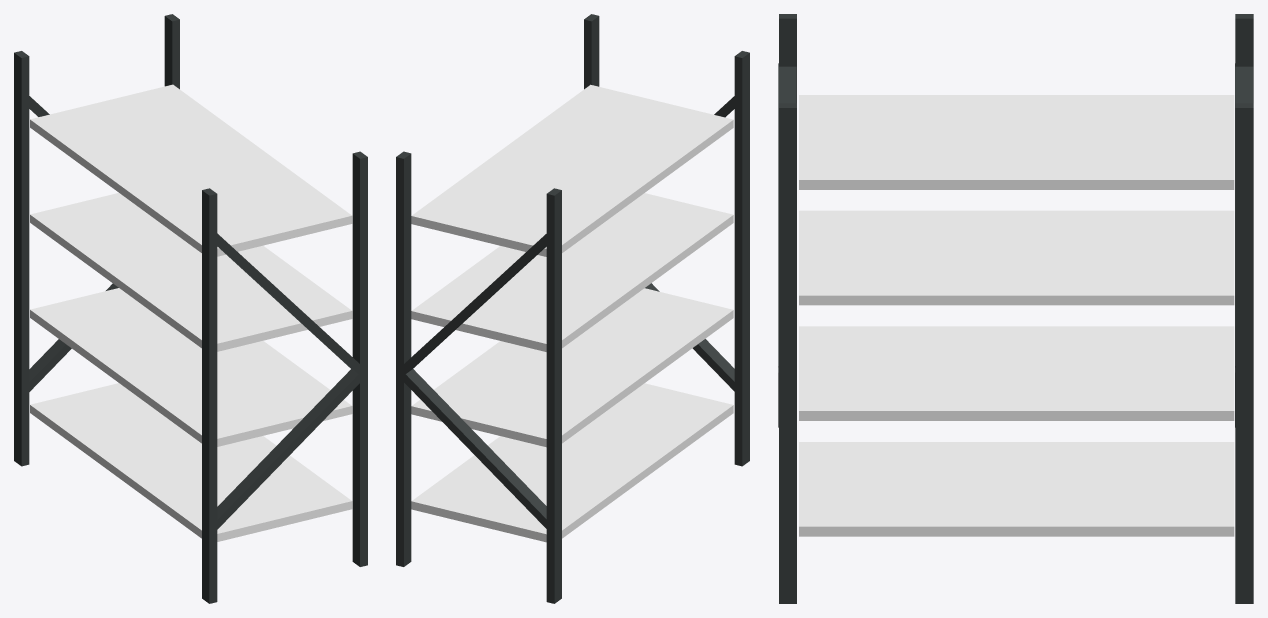
The model's file is Estante.fbx.
The picture shows the model from 3 angles, left to right: view 1: azimuth 30°, elevation 25°; view 2: azimuth 150°, elevation 25°; view 3: azimuth 270°, elevation 25°; orthographic projection. The views are drawn at different scales.
Visible parts, largest first — view 1: Box079, Box077, Box078, Box072, Box073, Box074, Box076, Box084, Box083, Box075, Box081; view 2: Box079, Box077, Box078, Box072, Box073, Box074, Box075, Box081, Box080, Box076, Box084; view 3: Box078, Box077, Box072, Box079, Box075, Box076, Box073, Box074, Box083, Box080.
Boxes of the visible parts, x1,y1,x2,y2 form: Box079: (30,84,352,256); Box077: (30,288,352,446); Box078: (30,193,352,351); Box072: (30,383,352,541); Box073: (14,51,29,466); Box074: (202,188,217,603); Box076: (352,151,367,566); Box084: (210,369,366,532); Box083: (210,232,366,376); Box075: (164,14,179,89); Box081: (22,283,118,394); Box079: (411,84,733,256); Box077: (411,288,733,447); Box078: (411,193,733,351); Box072: (411,383,733,542); Box073: (546,188,561,603); Box074: (734,51,749,466); Box075: (396,151,411,566); Box081: (404,369,546,528); Box080: (404,234,546,374); Box076: (584,14,599,89); Box084: (645,283,734,391); Box078: (799,210,1234,305); Box077: (799,326,1234,420); Box072: (799,442,1234,536); Box079: (799,95,1234,189); Box075: (1235,103,1253,603); Box076: (779,103,796,603); Box073: (1235,14,1253,102); Box074: (779,14,796,102); Box083: (778,63,796,367); Box080: (1235,63,1253,367).
Bounding box in the file's own units: 60.92 × 150 × 130.
Materials: 2 (2 with a texture image).
